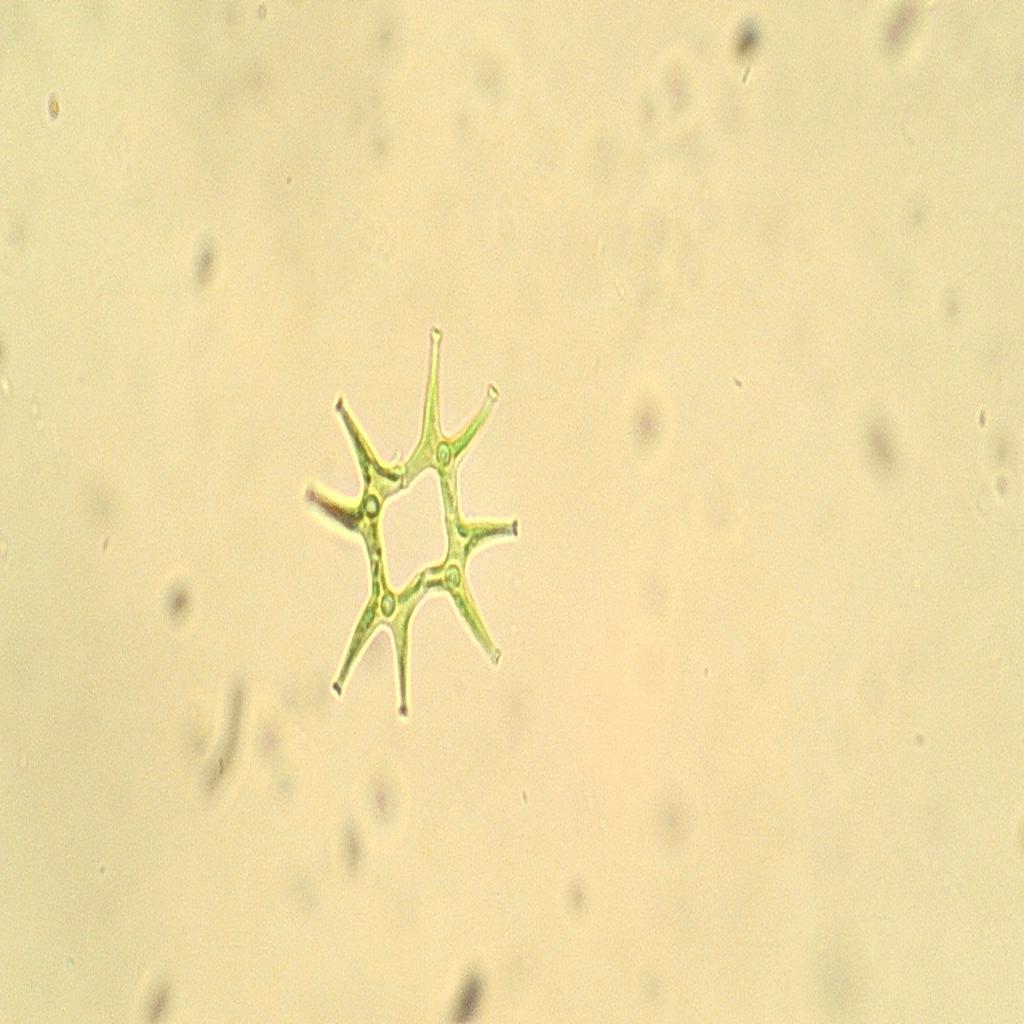Pediastrum_CO: (278, 317, 548, 725)
